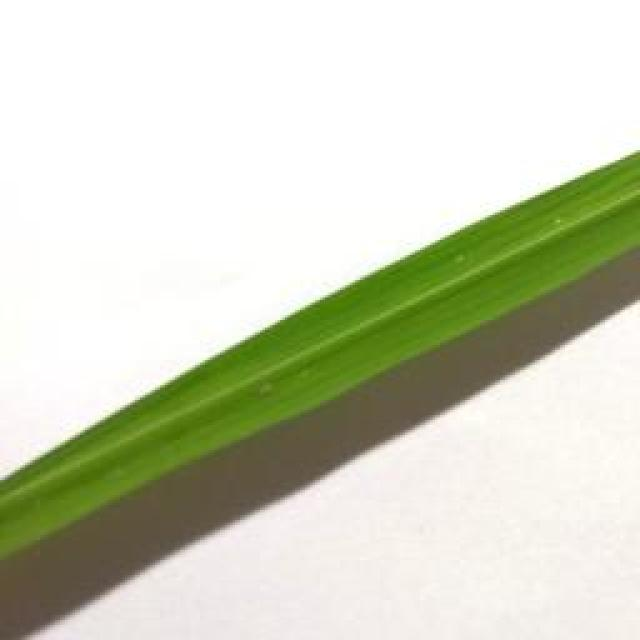Healthy-Plant: (0, 146, 640, 566)
